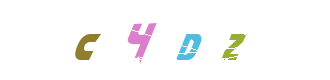4: (109, 0, 189, 80)
C: (101, 0, 181, 80)
D: (125, 0, 205, 80)
Z: (149, 0, 229, 80)
